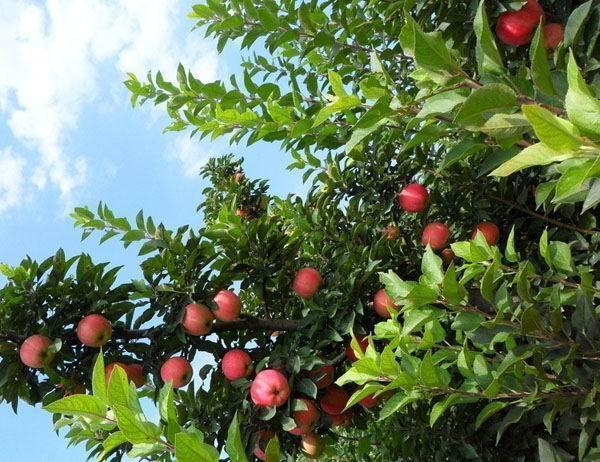apple: (495, 1, 544, 50), (249, 368, 289, 407), (283, 397, 319, 434), (76, 313, 112, 347), (16, 334, 52, 368), (181, 302, 214, 334), (159, 356, 192, 388), (210, 289, 241, 321), (321, 386, 352, 415), (222, 351, 251, 380), (375, 289, 403, 318), (399, 184, 429, 211), (422, 222, 451, 249), (292, 269, 321, 296), (470, 221, 498, 246), (541, 22, 562, 50)
